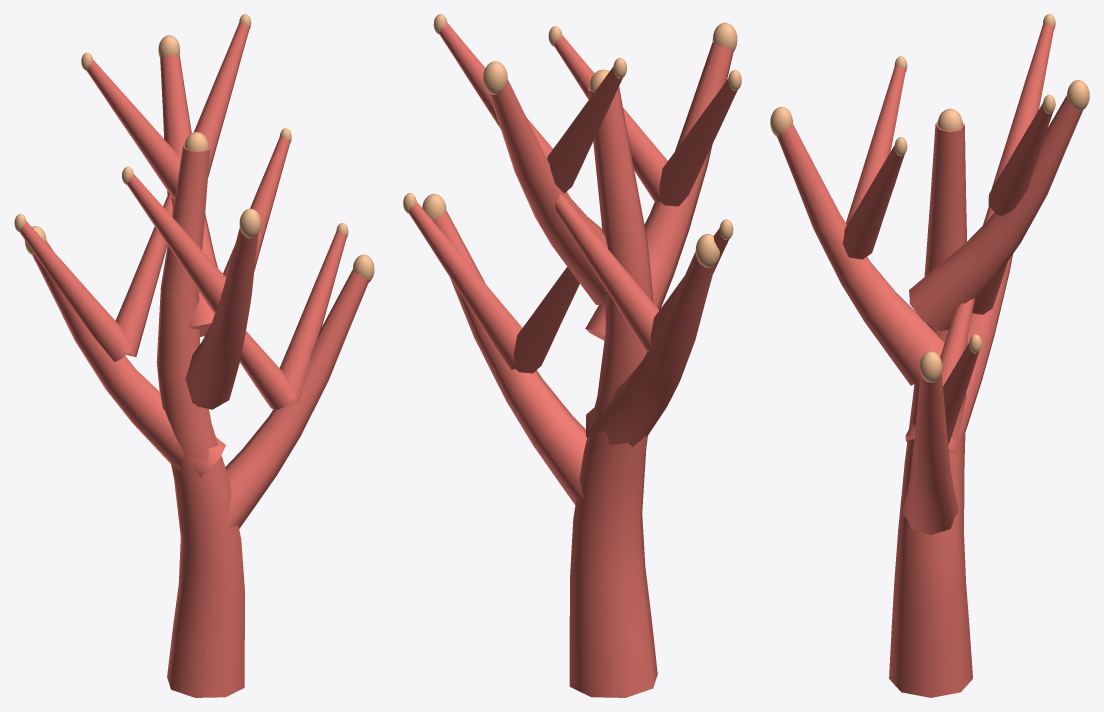
File: Branching_Coral.glb
The picture shows the model from 3 angles, left to right: view 1: azimuth 30°, elevation 25°; view 2: azimuth 150°, elevation 25°; view 3: azimuth 270°, elevation 25°; orthographic projection. The views are drawn at different scales.
Visible parts, largest first — view 1: Branching_Coral; view 2: Branching_Coral; view 3: Branching_Coral.
Boxes of the visible parts, left/top/right/bottom form: Branching_Coral: left=14, top=14, right=374, bottom=697; Branching_Coral: left=403, top=14, right=741, bottom=697; Branching_Coral: left=770, top=14, right=1089, bottom=697.
Size of the model in its own units: 0.2991 by 0.5493 by 0.2509.
